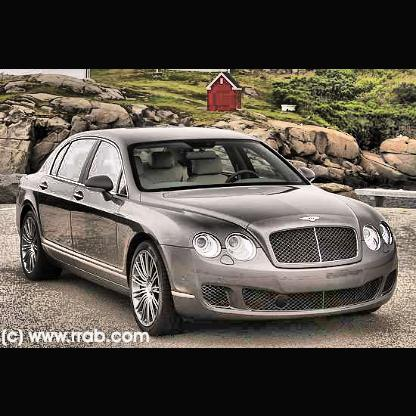Bentley Continental Flying Spur Sedan 2007: (17, 126, 403, 337)
